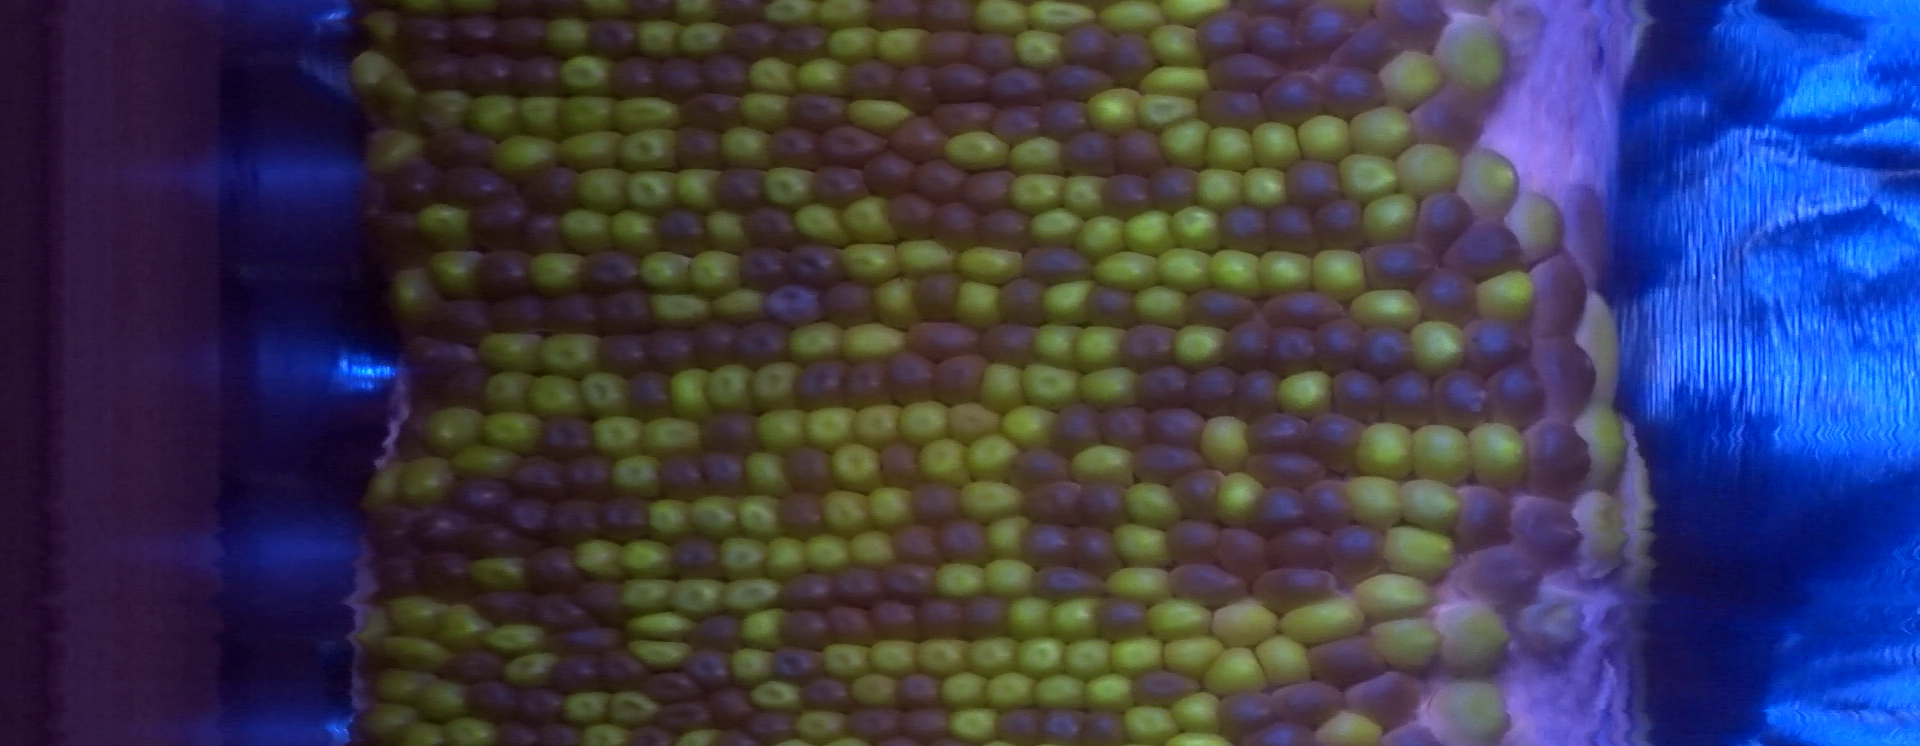fluorescent: (1433, 16, 1515, 102), (1571, 283, 1624, 410), (1427, 674, 1513, 746), (1382, 518, 1466, 586), (1441, 598, 1511, 676), (1576, 485, 1629, 584), (1393, 470, 1468, 539), (1462, 416, 1531, 490), (1462, 145, 1521, 228), (1362, 616, 1447, 670), (1572, 402, 1625, 486), (1349, 572, 1444, 619), (1280, 597, 1363, 649), (1343, 100, 1416, 160), (1511, 187, 1565, 265), (1269, 365, 1340, 421), (1472, 267, 1540, 325), (1344, 287, 1427, 334), (1378, 48, 1441, 109), (1351, 420, 1417, 479), (361, 635, 457, 675), (1412, 423, 1476, 481), (1310, 245, 1375, 303), (1212, 470, 1269, 537), (1397, 141, 1464, 195), (665, 365, 727, 423), (1213, 598, 1283, 649), (419, 401, 485, 454), (1336, 151, 1403, 203), (1198, 408, 1251, 473), (350, 699, 424, 746), (1033, 276, 1100, 327), (1124, 478, 1184, 534), (707, 358, 759, 421), (1073, 321, 1131, 377), (973, 356, 1033, 412), (958, 481, 1029, 528), (1407, 318, 1468, 372), (1294, 108, 1351, 165), (1064, 446, 1138, 490), (1244, 119, 1304, 173), (872, 272, 923, 334), (1007, 170, 1070, 220), (1160, 635, 1223, 685), (937, 130, 1009, 174), (836, 318, 909, 363), (1363, 192, 1420, 247), (400, 450, 458, 505), (362, 126, 429, 174), (527, 249, 588, 300), (1251, 635, 1314, 685), (613, 126, 681, 173), (1113, 526, 1177, 575), (1139, 598, 1213, 639), (418, 198, 474, 254), (579, 367, 636, 423), (839, 192, 896, 245), (893, 396, 950, 448), (1346, 477, 1403, 529), (1120, 203, 1179, 255), (1090, 251, 1167, 290), (751, 361, 809, 413), (831, 441, 890, 492), (556, 126, 621, 173), (479, 407, 544, 453), (391, 258, 441, 318), (1202, 644, 1264, 693), (637, 412, 707, 454), (1071, 208, 1127, 262), (790, 198, 846, 251), (756, 164, 819, 211), (1213, 245, 1265, 303), (1237, 164, 1296, 214), (475, 328, 540, 374), (381, 592, 446, 637), (820, 488, 876, 540), (1260, 243, 1311, 299), (620, 632, 696, 670), (1131, 279, 1190, 328), (553, 206, 613, 254), (784, 317, 845, 364), (1081, 365, 1142, 412), (482, 367, 536, 420), (1089, 83, 1144, 135), (1160, 114, 1211, 169), (967, 432, 1022, 484), (1164, 205, 1221, 255), (542, 330, 599, 380), (757, 405, 813, 456), (1003, 402, 1059, 452), (622, 167, 680, 216), (1003, 132, 1070, 174), (578, 164, 632, 216), (691, 250, 744, 301), (422, 247, 479, 296), (493, 137, 560, 179), (1205, 124, 1262, 171), (530, 375, 588, 423), (451, 442, 520, 481), (894, 236, 958, 279), (1133, 89, 1200, 130), (1310, 706, 1378, 746), (611, 452, 665, 502), (1027, 205, 1089, 249), (1027, 322, 1082, 371), (1022, 358, 1078, 407), (1097, 1, 1166, 40), (962, 247, 1029, 288), (1198, 164, 1250, 214), (804, 403, 857, 453), (639, 247, 693, 296), (947, 398, 1000, 447), (589, 412, 644, 459), (640, 492, 696, 540), (694, 488, 741, 544), (982, 556, 1038, 603), (618, 609, 700, 641), (1169, 322, 1227, 367), (1064, 171, 1116, 222), (917, 437, 969, 488), (672, 575, 725, 624), (611, 211, 665, 258), (643, 292, 710, 330), (558, 94, 620, 136), (954, 281, 1004, 331), (846, 100, 920, 135), (358, 458, 405, 511), (716, 576, 786, 611), (718, 535, 769, 583), (1160, 245, 1213, 290), (433, 604, 489, 648), (918, 637, 973, 681), (620, 541, 680, 582), (1138, 64, 1213, 96), (1119, 701, 1176, 744), (376, 70, 418, 127), (1103, 567, 1176, 600), (1147, 21, 1202, 64), (844, 243, 899, 285), (1026, 1, 1095, 36), (824, 24, 880, 66), (700, 206, 748, 255), (735, 490, 780, 541), (819, 638, 871, 684), (620, 575, 677, 615), (1029, 673, 1086, 713), (869, 24, 931, 62), (793, 707, 855, 745), (1002, 595, 1054, 639), (613, 96, 681, 130), (868, 479, 911, 533), (465, 93, 520, 135), (604, 691, 659, 733), (741, 606, 790, 653), (864, 639, 924, 677), (504, 650, 561, 691), (851, 403, 902, 447), (576, 537, 627, 581), (718, 127, 779, 164), (473, 557, 531, 595), (557, 687, 612, 728), (418, 674, 464, 722), (415, 89, 464, 135), (737, 89, 793, 129), (747, 674, 803, 713), (563, 58, 616, 99), (482, 622, 551, 654), (1113, 635, 1167, 675), (1056, 597, 1103, 642), (744, 454, 793, 499), (947, 704, 1005, 741), (1059, 638, 1114, 677), (670, 167, 720, 209), (1013, 29, 1067, 69), (746, 55, 800, 94), (347, 47, 389, 96), (984, 670, 1033, 713), (975, 1, 1030, 39), (367, 665, 426, 701), (675, 20, 731, 56), (793, 55, 846, 94), (767, 533, 811, 579), (933, 563, 987, 601), (969, 638, 1022, 676), (1081, 671, 1135, 709), (808, 529, 850, 578), (440, 709, 495, 746), (637, 18, 684, 59), (850, 529, 898, 570), (360, 9, 405, 50), (545, 20, 591, 60), (812, 1, 872, 32), (1167, 1, 1238, 27), (709, 289, 765, 321), (517, 93, 560, 135), (730, 644, 774, 685), (938, 673, 992, 706), (1020, 639, 1065, 679), (1178, 690, 1223, 729), (989, 518, 1030, 561), (849, 673, 898, 706), (767, 1, 818, 31), (578, 724, 633, 746), (1162, 729, 1231, 746), (677, 1, 721, 26), (587, 1, 636, 21), (673, 726, 719, 746), (408, 722, 443, 746)
nonfluorescent: (1522, 325, 1599, 431), (1501, 489, 1584, 571), (1408, 78, 1488, 160), (1520, 416, 1596, 502), (1453, 541, 1545, 608), (1424, 363, 1504, 439), (1558, 176, 1610, 289), (1436, 218, 1524, 282), (1523, 254, 1587, 339), (1518, 588, 1589, 664), (1308, 53, 1389, 119), (1243, 565, 1342, 617), (1446, 480, 1513, 557), (398, 323, 484, 383), (1340, 669, 1427, 728), (1354, 236, 1439, 295), (1482, 356, 1547, 432), (1408, 261, 1480, 328), (1404, 191, 1474, 260), (1300, 635, 1389, 688), (1369, 1, 1455, 56), (1162, 559, 1251, 611), (1456, 314, 1534, 374), (1314, 521, 1386, 586), (1373, 369, 1442, 435), (469, 245, 544, 306), (1322, 363, 1391, 429), (460, 192, 533, 255), (1254, 287, 1348, 333), (901, 312, 984, 365), (435, 162, 524, 211), (1287, 1, 1363, 59), (692, 403, 768, 461), (545, 489, 612, 552), (419, 292, 500, 344), (437, 472, 516, 526), (1206, 519, 1277, 578), (1178, 283, 1260, 333), (1322, 18, 1400, 71), (1247, 477, 1309, 541), (418, 126, 502, 174), (500, 452, 576, 505), (1260, 522, 1336, 575), (587, 285, 659, 341), (1127, 441, 1210, 489), (862, 588, 927, 649), (1261, 69, 1327, 129), (1178, 361, 1244, 421), (478, 289, 551, 343), (1191, 5, 1260, 62), (456, 514, 534, 565), (735, 200, 809, 252), (647, 202, 716, 258), (1304, 409, 1367, 472), (811, 121, 890, 170), (971, 198, 1036, 258), (684, 314, 749, 374), (1162, 468, 1227, 528), (1243, 447, 1331, 491), (1213, 688, 1284, 742), (1353, 322, 1416, 383), (789, 354, 851, 415), (928, 194, 988, 257), (1238, 412, 1315, 461), (1053, 21, 1123, 75), (1307, 192, 1368, 254), (880, 347, 942, 408), (617, 364, 678, 425), (909, 263, 969, 326), (1259, 201, 1322, 260), (818, 276, 882, 334), (1067, 519, 1124, 584), (381, 163, 447, 219), (1311, 314, 1368, 380), (1272, 677, 1348, 726), (1280, 156, 1347, 211), (651, 441, 707, 508), (1046, 398, 1104, 461), (1027, 561, 1111, 605), (576, 247, 650, 296), (1140, 402, 1211, 453), (1130, 668, 1209, 714), (539, 287, 605, 342), (707, 162, 774, 216), (778, 241, 850, 292), (1018, 478, 1086, 530), (1189, 85, 1269, 130), (1098, 32, 1161, 89), (1079, 281, 1144, 336), (1116, 318, 1180, 374), (1013, 243, 1096, 285), (545, 614, 628, 657), (1008, 440, 1074, 494), (730, 314, 790, 372), (931, 511, 991, 570), (1228, 364, 1286, 425), (841, 356, 899, 418), (1071, 477, 1133, 534), (489, 6, 551, 62), (456, 47, 518, 103), (1204, 50, 1286, 93), (771, 13, 835, 69), (776, 442, 840, 497), (782, 85, 852, 135), (443, 7, 508, 61), (926, 56, 992, 109), (804, 159, 871, 212), (729, 243, 795, 295), (637, 326, 703, 379), (884, 113, 951, 164), (1220, 314, 1277, 374), (909, 154, 971, 209), (1131, 359, 1194, 414), (564, 577, 629, 630), (460, 676, 527, 728), (1240, 9, 1298, 67), (1062, 121, 1120, 179), (989, 273, 1048, 331), (517, 165, 584, 216), (1212, 202, 1275, 256), (1091, 593, 1153, 647), (673, 87, 746, 134), (465, 586, 541, 630), (582, 11, 647, 62), (1160, 514, 1224, 566), (407, 506, 476, 554), (882, 187, 942, 243), (931, 352, 992, 405), (536, 412, 598, 465), (519, 545, 587, 594), (764, 283, 827, 336), (1092, 402, 1155, 454), (1104, 127, 1171, 176), (773, 604, 839, 653), (508, 48, 568, 102), (413, 549, 473, 603), (764, 122, 827, 174), (880, 556, 944, 606), (664, 126, 732, 173), (681, 611, 749, 658), (1014, 521, 1079, 570), (1266, 323, 1320, 382), (838, 51, 898, 104), (905, 477, 965, 529), (1298, 483, 1358, 535), (828, 563, 889, 615), (716, 17, 784, 64), (402, 49, 470, 94), (888, 62, 944, 118), (594, 491, 650, 546), (664, 535, 729, 583), (762, 641, 827, 688), (907, 592, 966, 644), (775, 568, 841, 615), (432, 643, 508, 684), (528, 587, 591, 635), (1144, 164, 1201, 217), (1041, 62, 1118, 102), (606, 51, 665, 103), (696, 442, 747, 501), (770, 490, 829, 541), (366, 211, 426, 261), (973, 320, 1035, 369), (885, 521, 947, 570), (394, 13, 460, 59), (860, 148, 918, 198), (820, 601, 880, 650), (873, 440, 928, 492), (959, 160, 1015, 212), (978, 67, 1057, 104), (1097, 170, 1156, 219), (931, 98, 999, 140), (958, 590, 1009, 646), (509, 679, 566, 729), (834, 702, 907, 740), (547, 652, 610, 696), (642, 668, 708, 709), (988, 98, 1046, 146), (697, 682, 757, 728), (598, 328, 649, 381), (1037, 96, 1093, 143), (696, 55, 756, 99), (649, 56, 709, 100), (562, 450, 615, 500), (962, 27, 1019, 73), (1075, 702, 1138, 744), (655, 695, 719, 735), (500, 492, 556, 538), (373, 549, 424, 599), (796, 674, 855, 717), (860, 1, 932, 36), (520, 207, 568, 258), (891, 668, 943, 714), (595, 650, 649, 695), (920, 26, 975, 69), (684, 649, 736, 693), (895, 702, 954, 740), (913, 2, 980, 36), (991, 704, 1046, 744), (1040, 703, 1091, 744), (369, 513, 419, 552), (1239, 724, 1329, 742), (747, 710, 801, 739), (1379, 722, 1438, 746), (538, 722, 582, 746), (498, 724, 540, 746), (627, 723, 662, 746)
